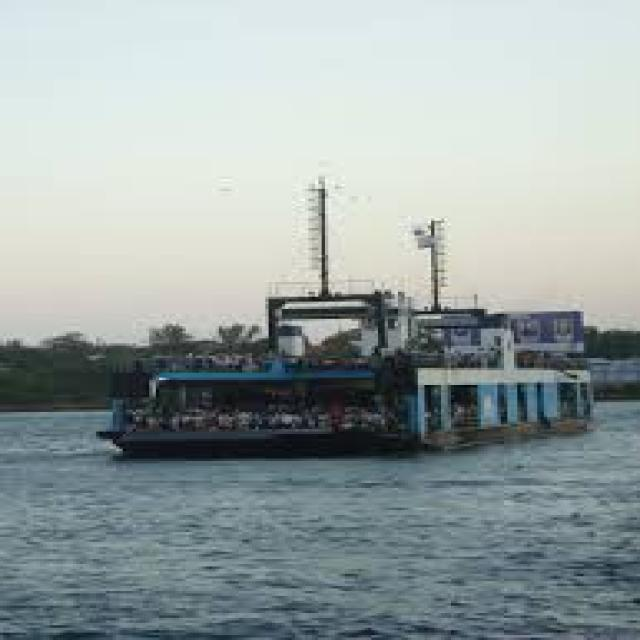passenger ship: (98, 270, 587, 457)
